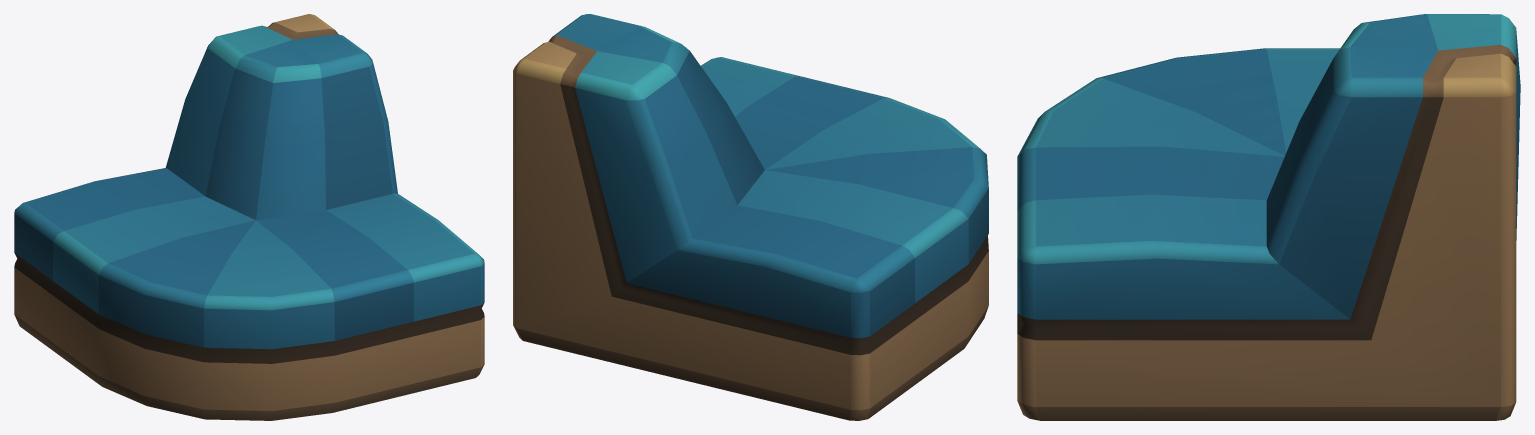
File: seating_outdoor1_2_corner_conv_LOD_setup.fbx
3 views of the same model, side by side, from view 1: azimuth 30°, elevation 25°; view 2: azimuth 150°, elevation 25°; view 3: azimuth 270°, elevation 25° (orthographic). The views are drawn at different scales.
Parts seen in each view (by area): view 1: seating_outdoor1_2_corner_conv_LOD0; view 2: seating_outdoor1_2_corner_conv_LOD0; view 3: seating_outdoor1_2_corner_conv_LOD0.
Part boxes in pixels (x1,y1,x2,y2): seating_outdoor1_2_corner_conv_LOD0: [14, 14, 484, 420]; seating_outdoor1_2_corner_conv_LOD0: [513, 14, 988, 420]; seating_outdoor1_2_corner_conv_LOD0: [1017, 14, 1520, 420].
Size of what is drawn, in the model's own units: 101 by 75 by 101.
